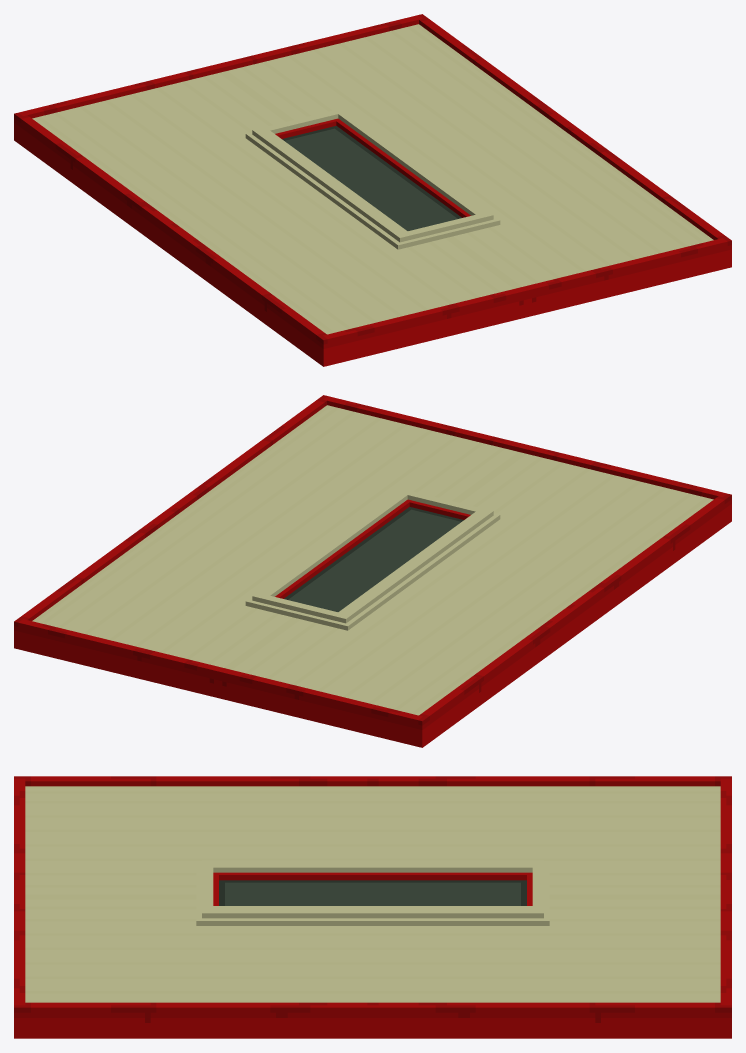
Rendered from Table.obj.
The picture shows the model from 3 angles, top to bottom: view 1: azimuth 30°, elevation 25°; view 2: azimuth 150°, elevation 25°; view 3: azimuth 270°, elevation 25°; orthographic projection. The views are drawn at different scales.
Bounding box in the file's own units: 9.6 × 0.7 × 12.6.
1 material, 1 textured.
